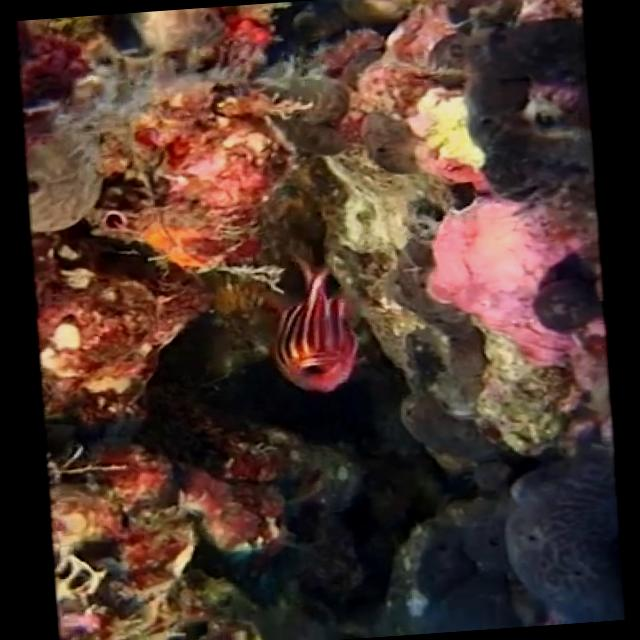Asker Baligi: (261, 260, 364, 396)
